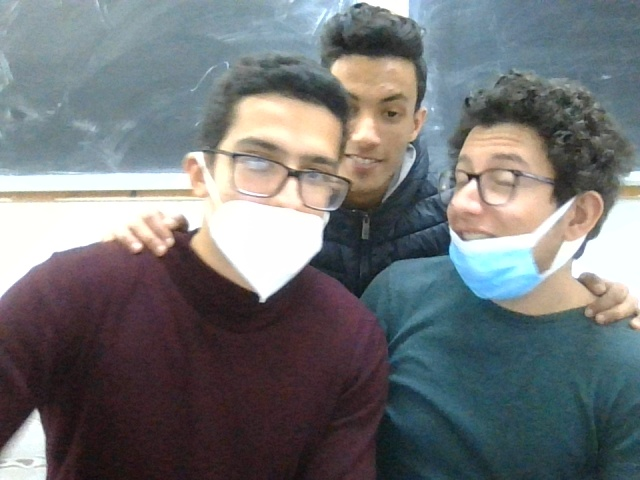mask_weared_incorrect: (191, 61, 346, 301), (440, 69, 608, 277)
